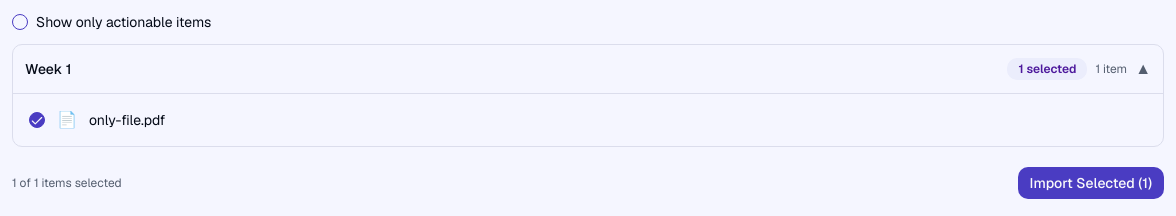
it: MoodleFilePicker › disables Import Selected button when nothing is selected
The image size is (1176, 216).
Expected: the text "only-file.pdf" is shown, [89,111,165,129]
What coordinates should you click on to do the following:
click the checkbox named "select only-file.pdf"
I would click on:
 (37, 120)
Its box is [29,112,45,128].
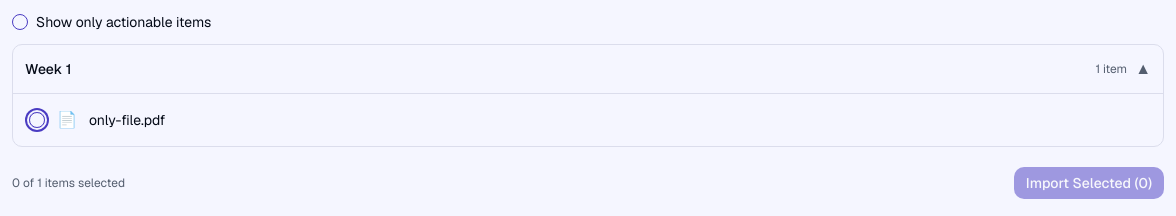
Expected: the button "Import Selected (0)" is disabled, [1014,167,1164,199]
